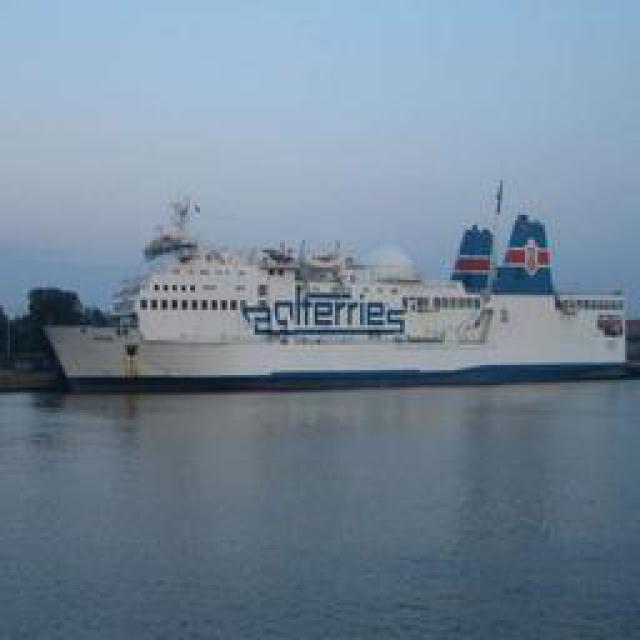Ship: (35, 197, 625, 377)
